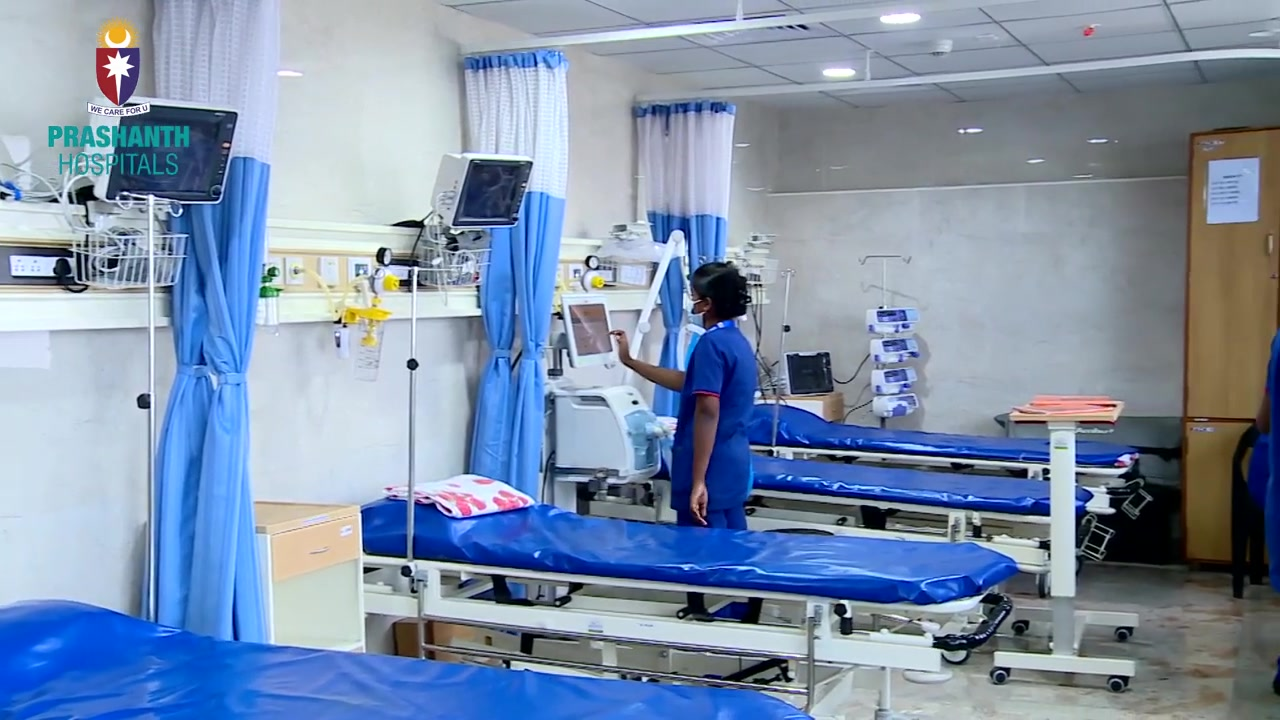bedrail: (412, 575, 826, 696)
bedside_monitor: (82, 92, 241, 204), (430, 151, 536, 231), (561, 294, 614, 368), (781, 349, 834, 396)
bedside_table: (250, 500, 370, 654), (790, 390, 844, 423)
cabinet: (1187, 131, 1276, 565)
curtain: (135, 1, 282, 644), (458, 48, 571, 604), (631, 97, 737, 481)
handle: (303, 541, 334, 559), (1190, 421, 1214, 437), (1263, 231, 1276, 257)
hospital_bed: (357, 470, 1021, 719), (1, 597, 820, 720), (587, 436, 1112, 575), (750, 401, 1151, 492)
iv_pole: (112, 190, 188, 625), (370, 265, 460, 579), (769, 267, 797, 456), (858, 254, 914, 307)
overbed_table: (990, 393, 1140, 693)
staff: (609, 262, 756, 531)
syringe_pump: (864, 304, 919, 335), (870, 336, 920, 364), (871, 366, 918, 393), (873, 394, 915, 417)
ventilator: (552, 384, 661, 487)
